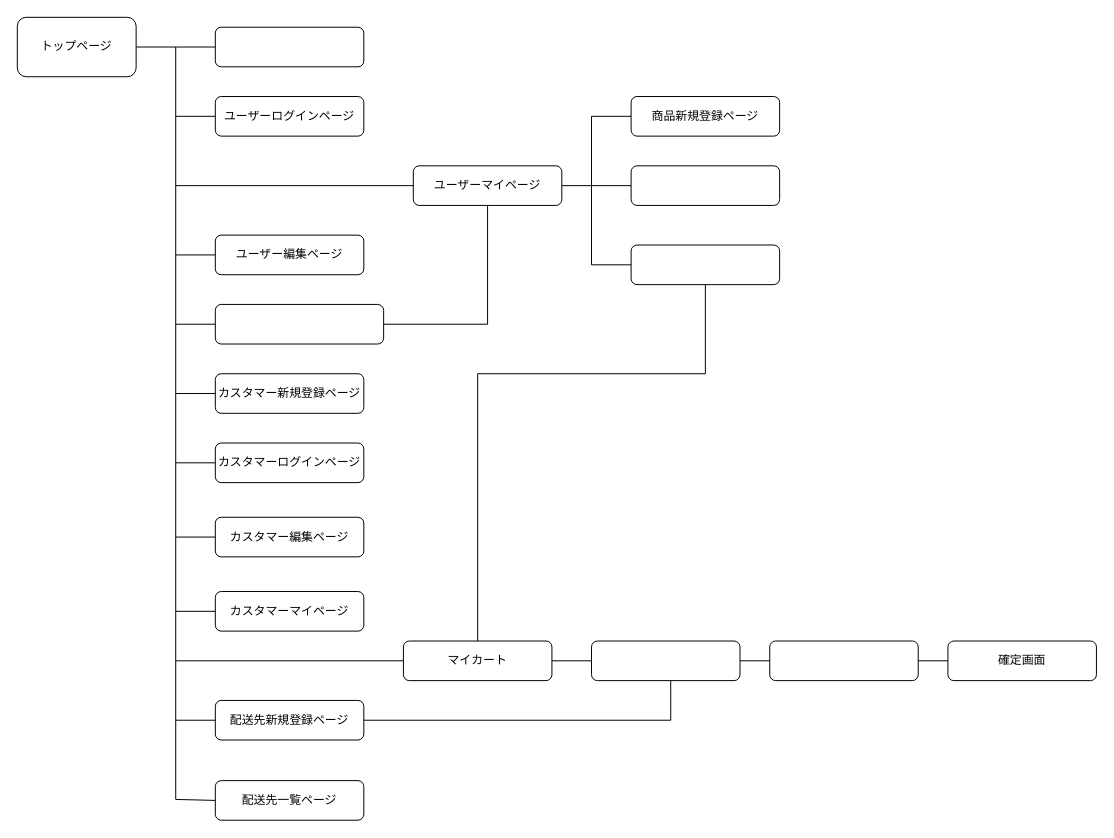
Image size: 1114x838. Some labels were removed from this diagram. The box of each missing label's shape, as (x1, y1, x2, y2) in pixels:
ユーザー新規登録ページ: (214, 26, 364, 67)
ユーザー（出品者）一覧ページ: (214, 303, 384, 344)
予約フォーム: (591, 640, 740, 681)
商品の編集ページ: (630, 165, 780, 205)
商品の詳細ページ: (630, 244, 780, 285)
購入確認ページ: (769, 640, 918, 681)
